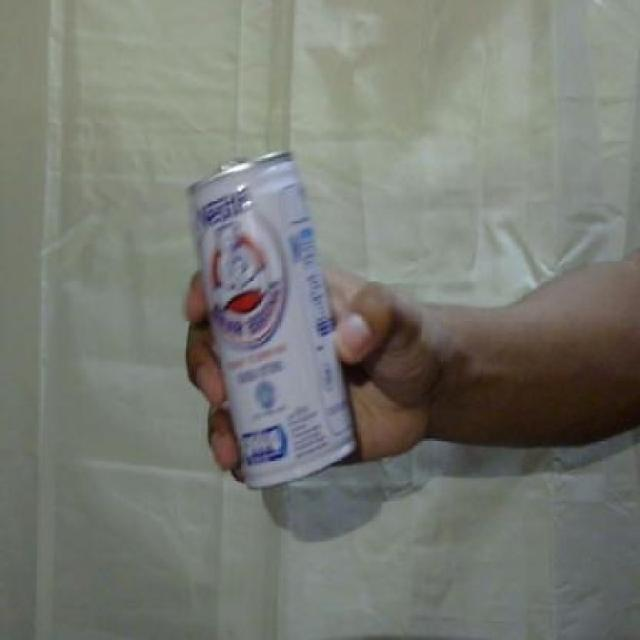Metal: (177, 120, 370, 506)
